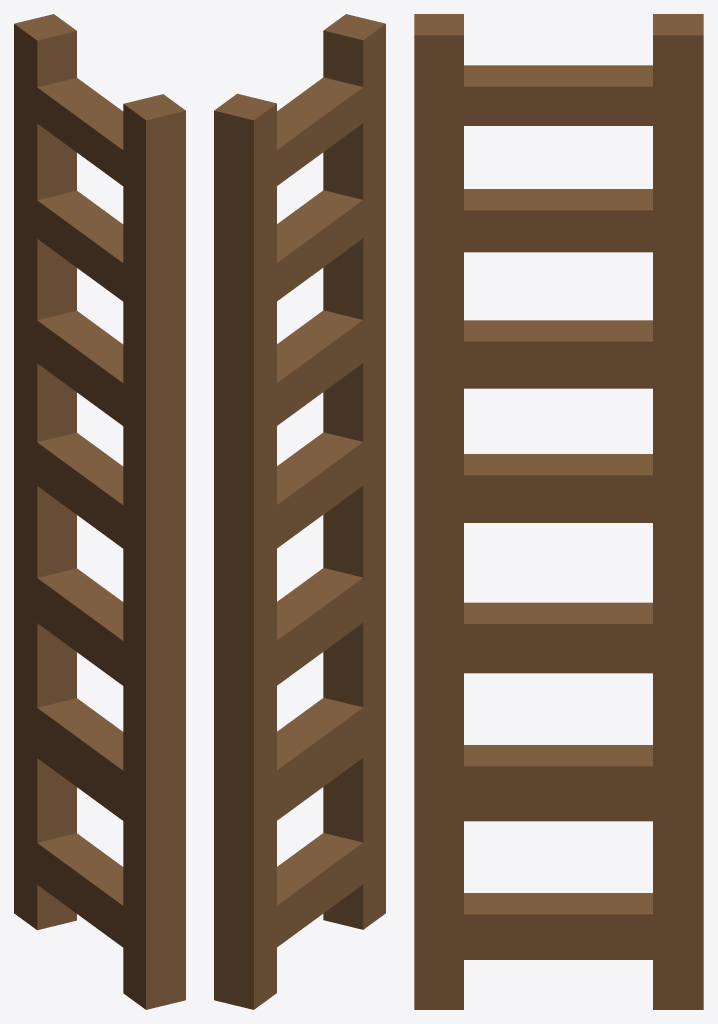
Rendered from Ladder02.fbx.
3 renders of one model, left to right at view 1: azimuth 30°, elevation 25°; view 2: azimuth 150°, elevation 25°; view 3: azimuth 270°, elevation 25°, orthographic. The views are drawn at different scales.
Visible parts, largest first — view 1: Ladder02; view 2: Ladder02; view 3: Ladder02.
Part boxes in pixels (x1,y1,x2,y2): Ladder02: (14,14,185,1009); Ladder02: (214,14,385,1009); Ladder02: (414,14,703,1009).
Size of the model in its own units: 20.83 by 445 by 120.
